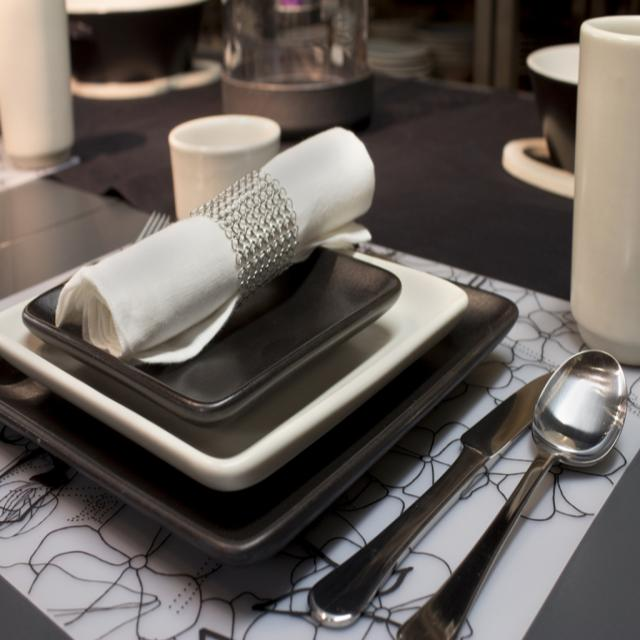non-organic waste: (562, 0, 640, 365)
